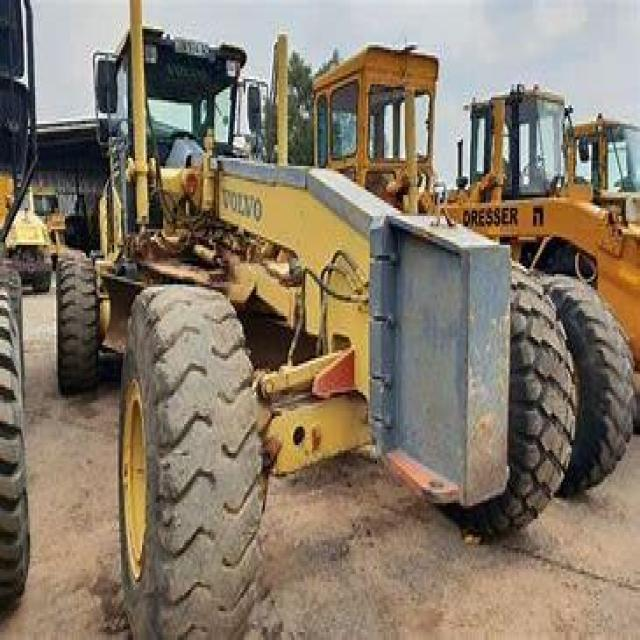buldozerpayloadergrader: (49, 23, 570, 634)
